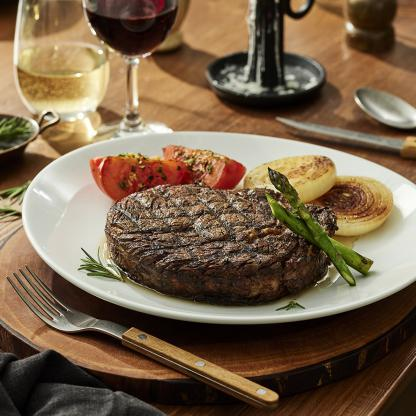Carne: (103, 186, 330, 306)
